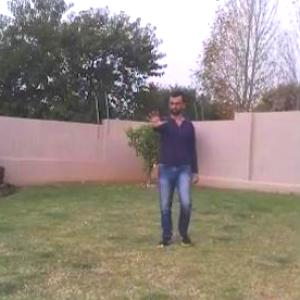follow_hand: (142, 104, 168, 130)
